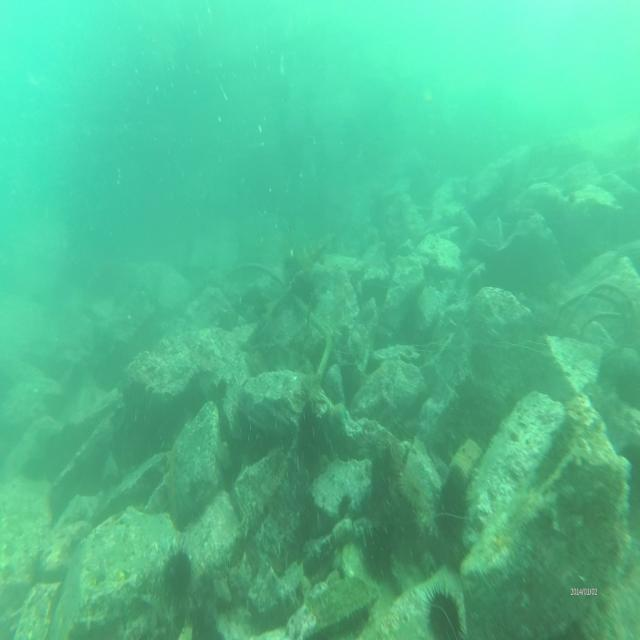echinus: (160, 543, 198, 614), (437, 465, 471, 540), (424, 583, 466, 640), (362, 523, 397, 577), (299, 405, 326, 473), (334, 488, 354, 522)
